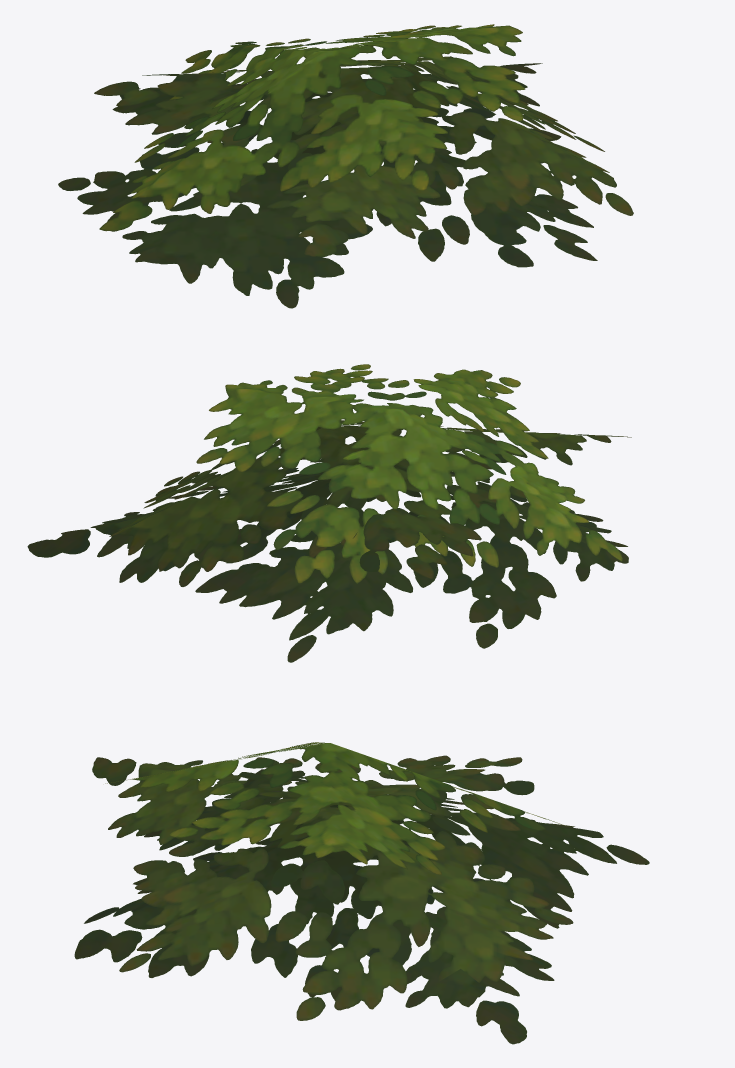
Rendered from plant_yewai_caocong01.FBX.
3 renders of one model, top to bottom at view 1: azimuth 30°, elevation 25°; view 2: azimuth 150°, elevation 25°; view 3: azimuth 270°, elevation 25°, orthographic. The views are drawn at different scales.
Parts seen in each view (by area): view 1: plant_yewai_caocong01; view 2: plant_yewai_caocong01; view 3: plant_yewai_caocong01.
Part boxes in pixels (bbox=[...]): plant_yewai_caocong01: bbox=[58, 24, 633, 308]; plant_yewai_caocong01: bbox=[27, 364, 631, 662]; plant_yewai_caocong01: bbox=[74, 742, 649, 1044].
Size of the model in its own units: 5.21 by 5.21 by 1.26.
